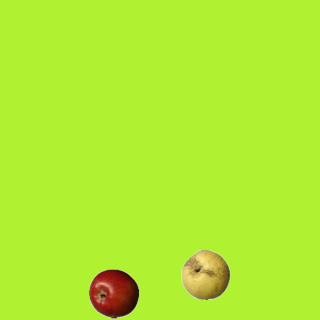Apple Braeburn: (88, 268, 138, 318)
Apple Golden 1: (180, 249, 230, 299)
